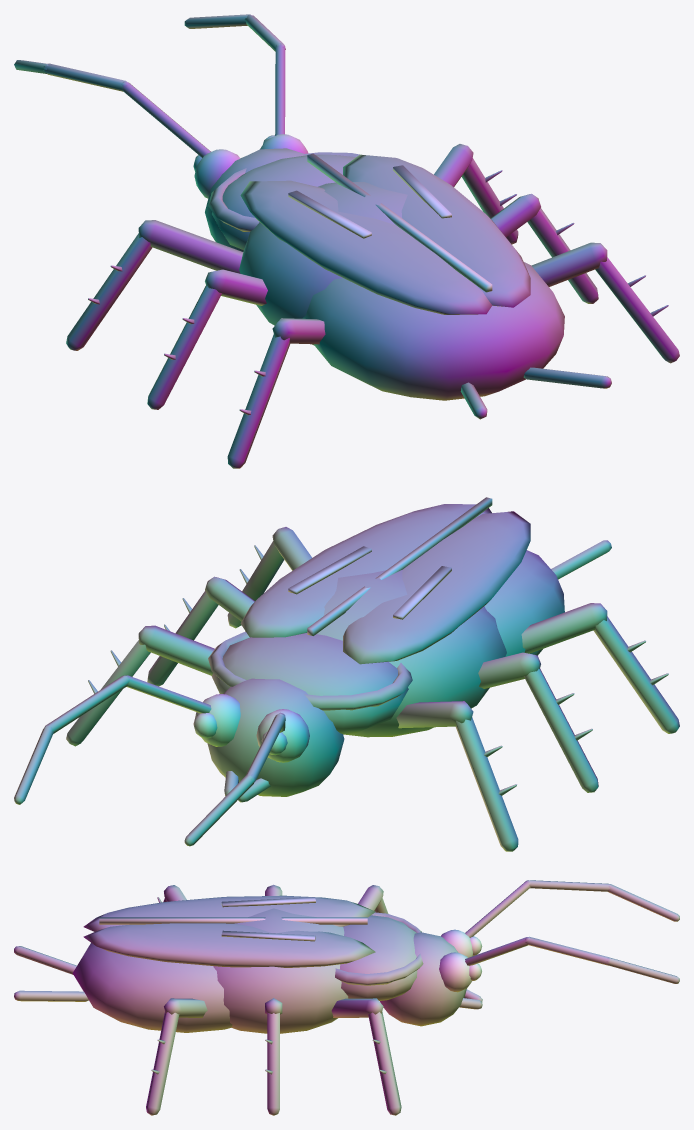
Rendered from mob_roach.glb.
3 renders of one model, top to bottom at view 1: azimuth 30°, elevation 25°; view 2: azimuth 150°, elevation 25°; view 3: azimuth 270°, elevation 25°, orthographic. The views are drawn at different scales.
Parts seen in each view (by area): view 1: body.001, legsA, legsB, antennae; view 2: body.001, legsA, legsB, antennae; view 3: body.001, legsB, antennae, legsA.
Part boxes in pixels (x1,y1,x2,y2): body.001: (193, 134, 611, 419); legsA: (66, 193, 598, 468); legsB: (147, 144, 679, 409); antennae: (14, 14, 285, 157); body.001: (193, 497, 611, 802); legsA: (147, 576, 679, 851); legsB: (66, 527, 598, 792); antennae: (14, 675, 285, 846); body.001: (14, 895, 482, 1033); legsB: (146, 884, 401, 1115); antennae: (465, 880, 679, 983); legsA: (157, 885, 388, 1115).
Size of the model in its own units: 0.2907 by 0.1044 by 0.4967.
